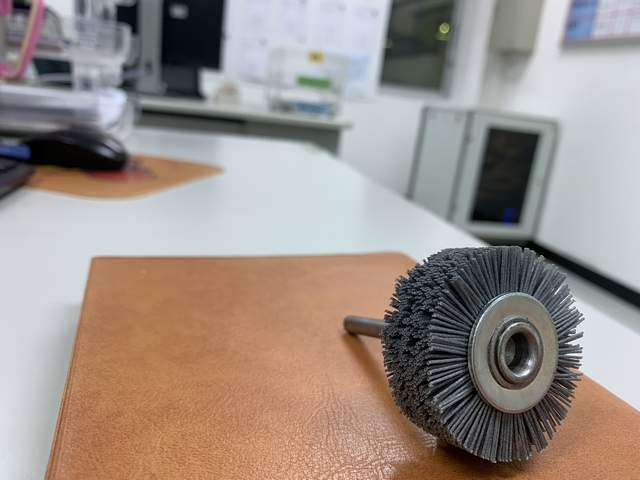Wheel Brush: (265, 244, 592, 427), (335, 243, 572, 466)
